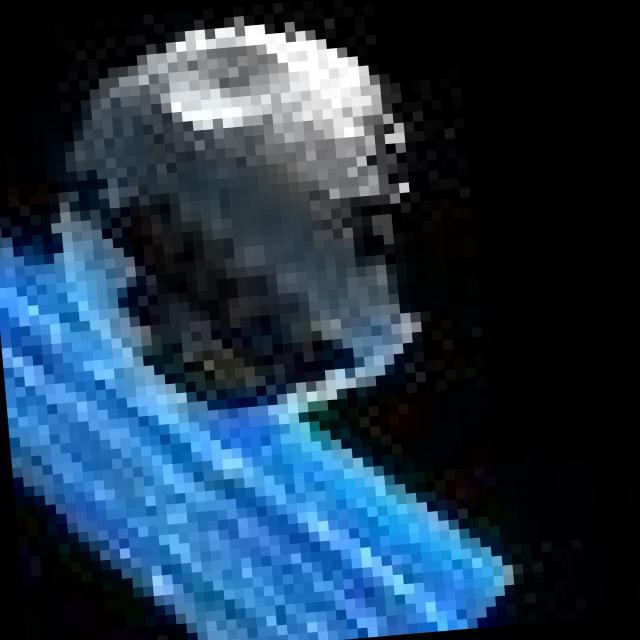Death Star: (50, 5, 452, 422)
